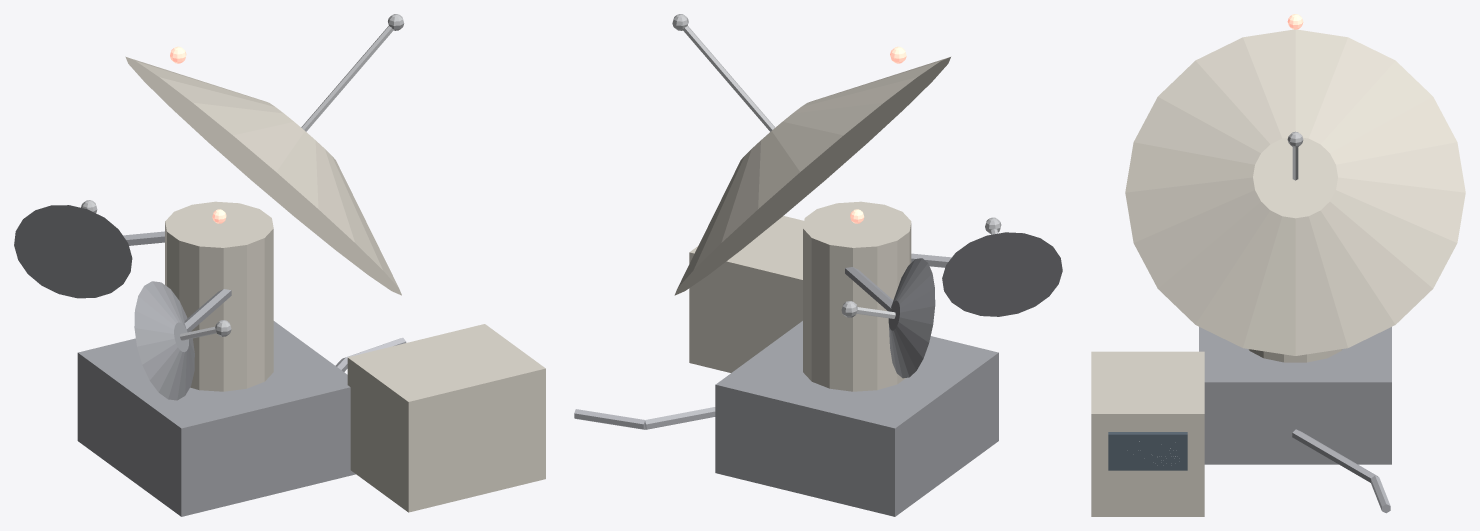
Rendered from comms_array.glb.
The picture shows the model from 3 angles, left to right: view 1: azimuth 30°, elevation 25°; view 2: azimuth 150°, elevation 25°; view 3: azimuth 270°, elevation 25°; orthographic projection. The views are drawn at different scales.
Visible parts, largest first — view 1: pedestal, cab_body, main_dish, yoke, sub_a_dish, sub_b_dish, main_feed, sub_b_stub; view 2: pedestal, main_dish, yoke, cab_body, sub_b_dish, sub_a_dish, feed, main_feed, sub_a_stub; view 3: main_dish, pedestal, cab_body, cab_glass, feed, yoke.
Part boxes in pixels (bbox=[...]): pedestal: bbox=[77, 321, 355, 516]; cab_body: bbox=[347, 324, 545, 512]; main_dish: bbox=[125, 56, 401, 295]; yoke: bbox=[165, 201, 273, 391]; sub_a_dish: bbox=[14, 205, 132, 298]; sub_b_dish: bbox=[134, 281, 194, 400]; main_feed: bbox=[301, 26, 393, 131]; sub_b_stub: bbox=[184, 289, 231, 332]; pedestal: bbox=[715, 321, 998, 516]; main_dish: bbox=[674, 57, 950, 295]; yoke: bbox=[803, 201, 911, 391]; cab_body: bbox=[689, 216, 803, 372]; sub_b_dish: bbox=[942, 232, 1062, 316]; sub_a_dish: bbox=[888, 258, 935, 378]; feed: bbox=[574, 407, 715, 429]; main_feed: bbox=[683, 26, 775, 131]; sub_a_stub: bbox=[845, 267, 893, 311]; main_dish: bbox=[1125, 29, 1465, 355]; pedestal: bbox=[1199, 327, 1391, 464]; cab_body: bbox=[1091, 351, 1204, 516]; cab_glass: bbox=[1108, 432, 1187, 470]; feed: bbox=[1292, 429, 1390, 513]; yoke: bbox=[1248, 349, 1342, 362].
Bounding box in the file's own units: 7.12 × 7.59 × 6.6.
